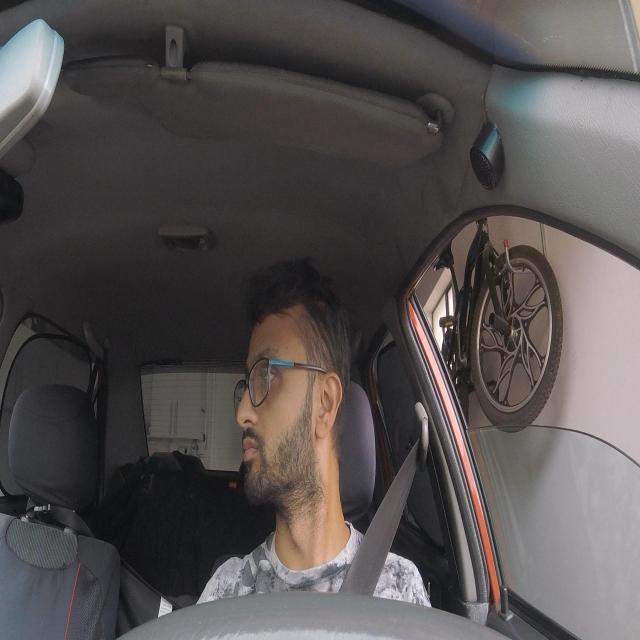open: (253, 346, 285, 406)
